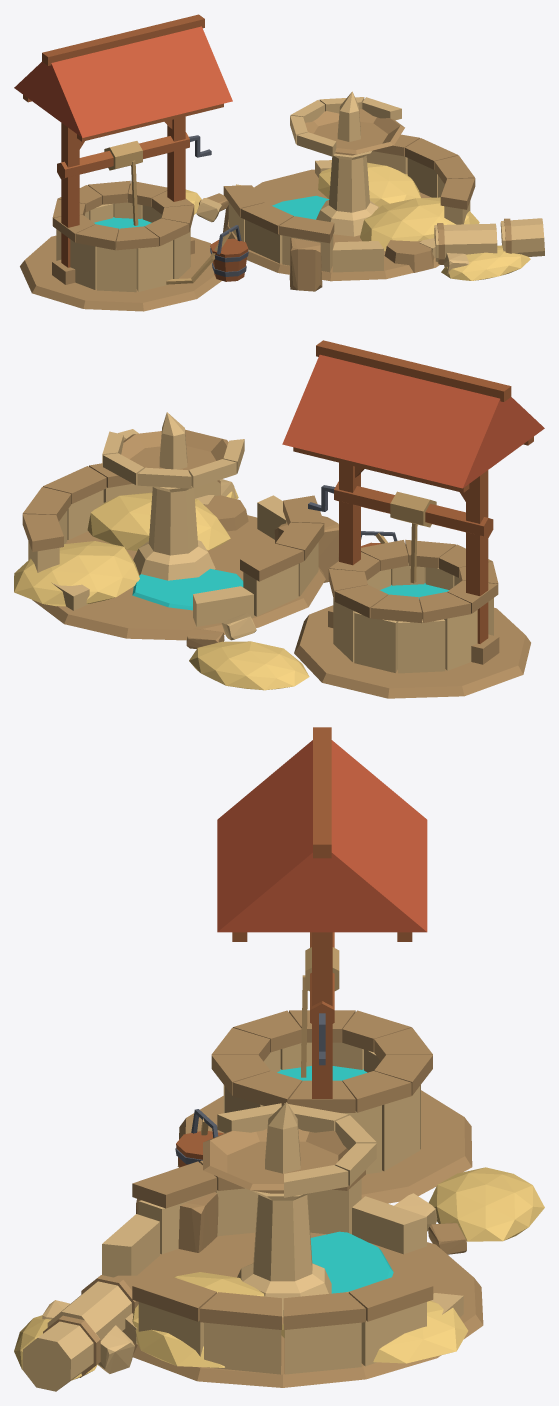
Rendered from Desert_2_OasisWell.fbx.
3 renders of one model, top to bottom at view 1: azimuth 30°, elevation 25°; view 2: azimuth 150°, elevation 25°; view 3: azimuth 270°, elevation 25°, orthographic. The views are drawn at different scales.
Visible parts, largest first — view 1: Desert_2_OasisWell__Desert_SandstoneDark, Desert_2_OasisWell__Desert_Sandstone, Desert_2_OasisWell__Desert_Terracotta, Desert_2_OasisWell__Common_Wood, Desert_2_OasisWell__Desert_Sand, Desert_2_OasisWell__Common_Rope, Desert_2_OasisWell__Desert_Water, Desert_2_OasisWell__Common_Iron; view 2: Desert_2_OasisWell__Desert_SandstoneDark, Desert_2_OasisWell__Desert_Sandstone, Desert_2_OasisWell__Desert_Terracotta, Desert_2_OasisWell__Desert_Sand, Desert_2_OasisWell__Common_Wood, Desert_2_OasisWell__Desert_Water, Desert_2_OasisWell__Common_Rope, Desert_2_OasisWell__Common_Iron; view 3: Desert_2_OasisWell__Desert_SandstoneDark, Desert_2_OasisWell__Desert_Sandstone, Desert_2_OasisWell__Desert_Terracotta, Desert_2_OasisWell__Desert_Sand, Desert_2_OasisWell__Common_Wood, Desert_2_OasisWell__Desert_Water, Desert_2_OasisWell__Common_Rope, Desert_2_OasisWell__Common_Iron.
Boxes of the visible parts, bbox=[...] form: Desert_2_OasisWell__Desert_SandstoneDark: bbox=[20, 109, 511, 311]; Desert_2_OasisWell__Desert_Sandstone: bbox=[56, 91, 544, 292]; Desert_2_OasisWell__Desert_Terracotta: bbox=[14, 26, 232, 137]; Desert_2_OasisWell__Common_Wood: bbox=[23, 14, 248, 281]; Desert_2_OasisWell__Desert_Sand: bbox=[185, 162, 530, 280]; Desert_2_OasisWell__Common_Rope: bbox=[104, 141, 231, 284]; Desert_2_OasisWell__Desert_Water: bbox=[94, 195, 329, 229]; Desert_2_OasisWell__Common_Iron: bbox=[189, 135, 248, 276]; Desert_2_OasisWell__Desert_SandstoneDark: bbox=[22, 429, 530, 698]; Desert_2_OasisWell__Desert_Sandstone: bbox=[28, 412, 493, 673]; Desert_2_OasisWell__Desert_Terracotta: bbox=[282, 354, 544, 488]; Desert_2_OasisWell__Desert_Sand: bbox=[14, 487, 309, 690]; Desert_2_OasisWell__Common_Wood: bbox=[293, 340, 533, 643]; Desert_2_OasisWell__Desert_Water: bbox=[132, 568, 448, 610]; Desert_2_OasisWell__Common_Rope: bbox=[375, 491, 436, 583]; Desert_2_OasisWell__Common_Iron: bbox=[308, 485, 397, 541]; Desert_2_OasisWell__Desert_SandstoneDark: bbox=[43, 1010, 483, 1387]; Desert_2_OasisWell__Desert_Sandstone: bbox=[22, 1042, 463, 1391]; Desert_2_OasisWell__Desert_Terracotta: bbox=[217, 740, 427, 932]; Desert_2_OasisWell__Desert_Sand: bbox=[14, 1167, 544, 1380]; Desert_2_OasisWell__Common_Wood: bbox=[176, 727, 412, 1167]; Desert_2_OasisWell__Desert_Water: bbox=[277, 1066, 393, 1293]; Desert_2_OasisWell__Common_Rope: bbox=[201, 947, 339, 1135]; Desert_2_OasisWell__Common_Iron: bbox=[175, 1013, 325, 1164].
Bounding box in the file's own units: 40.48 × 22.04 × 28.28.
